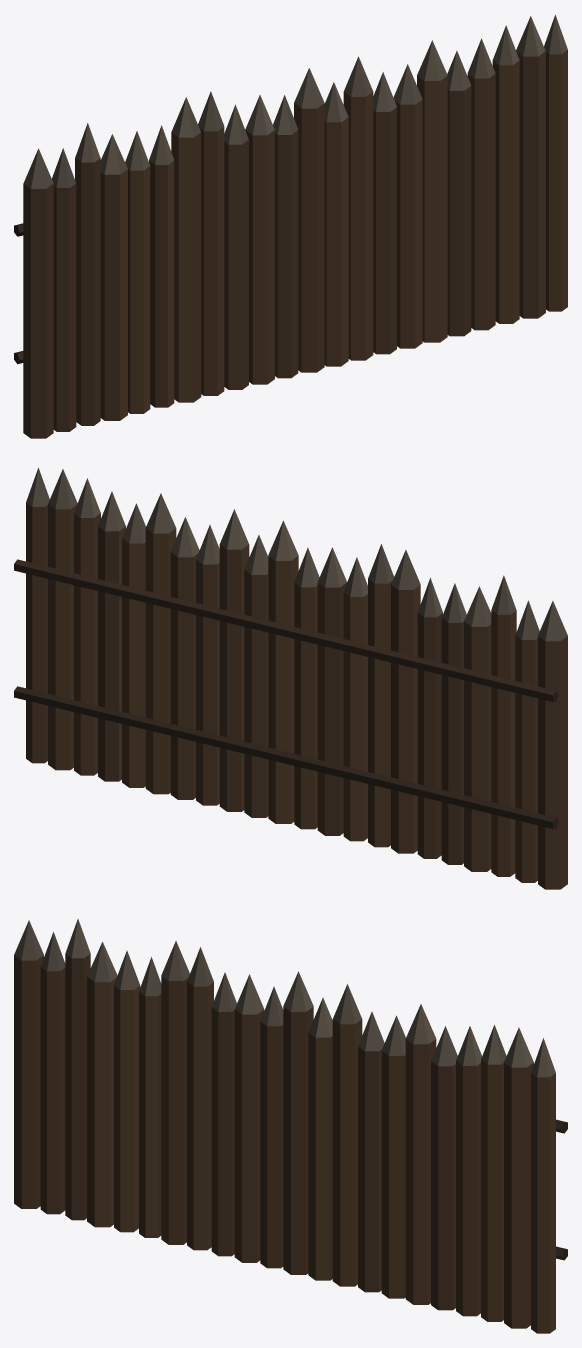
File: walk_rime_wall.glb
3 renders of one model, top to bottom at view 1: azimuth 30°, elevation 25°; view 2: azimuth 150°, elevation 25°; view 3: azimuth 330°, elevation 25°, orthographic.
Visible parts, largest first — view 1: walk_rime_wall; view 2: walk_rime_wall; view 3: walk_rime_wall.
Boxes of the visible parts, bbox=[...] form: walk_rime_wall: bbox=[14, 15, 567, 438]; walk_rime_wall: bbox=[14, 467, 567, 889]; walk_rime_wall: bbox=[14, 919, 567, 1333].
Size of what is drawn, in the model's own units: 8 by 4.24 by 0.5143.
1 material, 1 textured.
